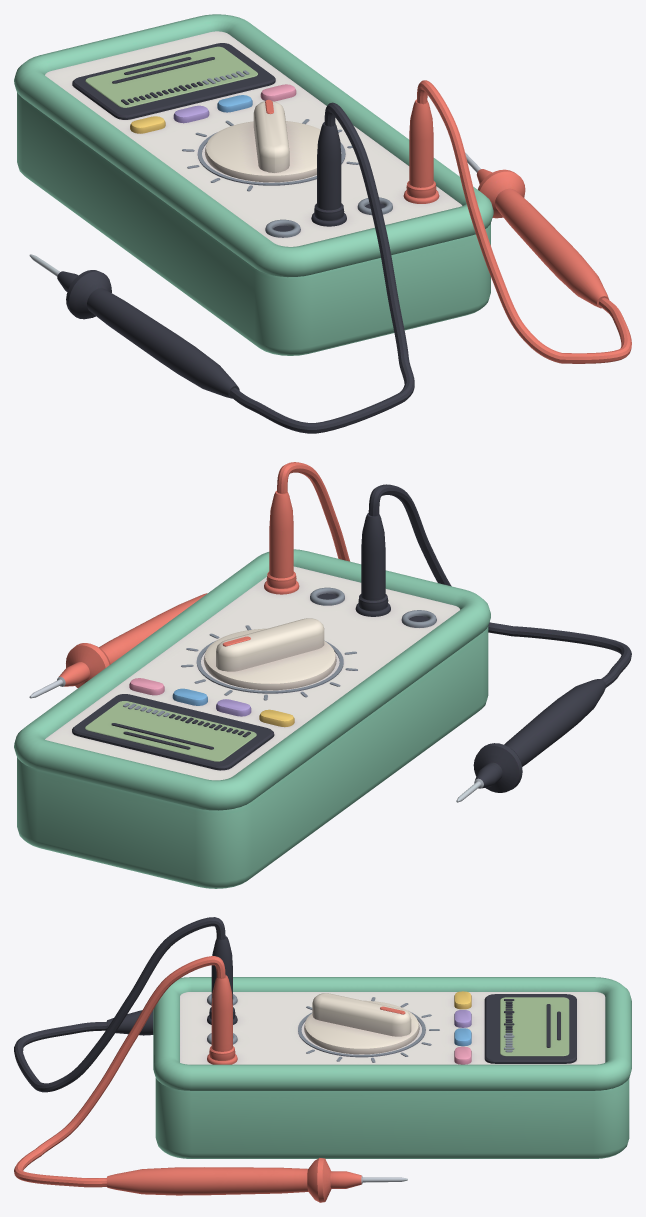
Rendered from voltmeter.glb.
3 renders of one model, top to bottom at view 1: azimuth 30°, elevation 25°; view 2: azimuth 150°, elevation 25°; view 3: azimuth 270°, elevation 25°, orthographic. The views are drawn at different scales.
Parts seen in each view (by area): view 1: multimeter_body; view 2: multimeter_body; view 3: multimeter_body.
Boxes of the visible parts, x1=… form: multimeter_body: x1=14, y1=14, x2=631, y2=433; multimeter_body: x1=14, y1=462, x2=631, y2=888; multimeter_body: x1=14, y1=917, x2=631, y2=1202.
Bounding box in the file's own units: 0.1781 × 0.0803 × 0.2414.
1 material, 1 textured.
